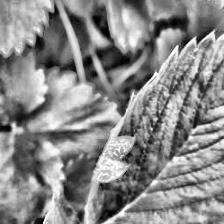Powdery Mildew Leaf: (84, 28, 224, 224)
